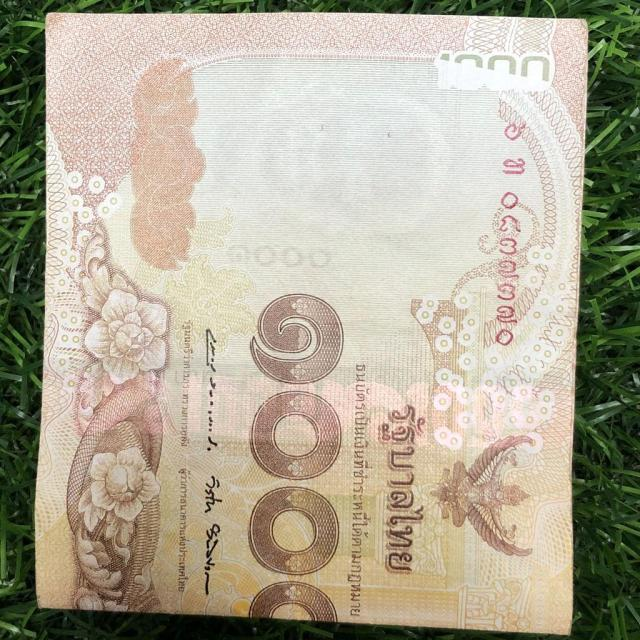THAI1000: (35, 14, 588, 634)
